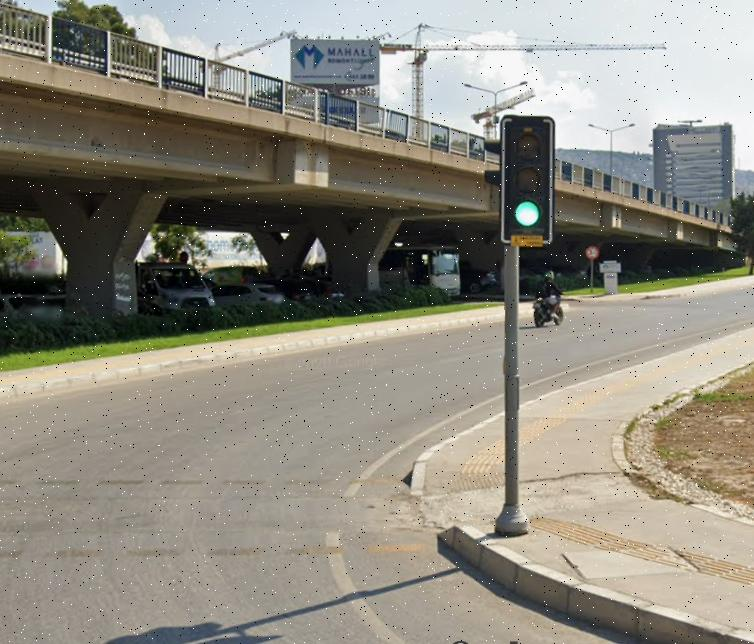greenlight: (502, 116, 549, 233)
